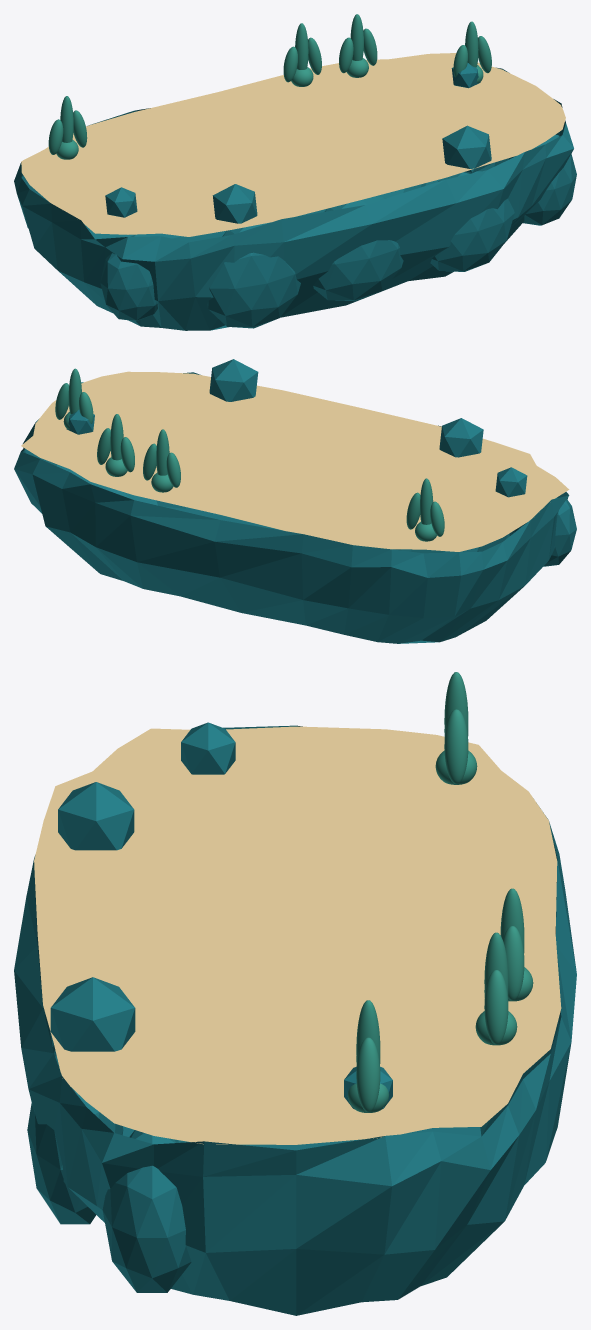
Rendered from island.glb.
The picture shows the model from 3 angles, top to bottom: view 1: azimuth 30°, elevation 25°; view 2: azimuth 150°, elevation 25°; view 3: azimuth 270°, elevation 25°; orthographic projection. The views are drawn at different scales.
Parts seen in each view (by area): view 1: Sandy island top, Faceted rocky island, Cliff boulder.001, Cliff boulder.002, Cliff boulder.003, Cliff boulder, Cliff boulder.004, Faceted stone.002, Faceted stone.001, Faceted stone, Kelp leaf.001, Kelp leaf.004 (+5 smaller); view 2: Sandy island top, Faceted rocky island, Faceted stone.002, Faceted stone.001, Cliff boulder, Faceted stone, Kelp leaf.004, Kelp leaf.007, Kelp leaf.001, Kelp leaf.010, Faceted stone.003, Kelp leaf (+6 smaller); view 3: Sandy island top, Faceted rocky island, Cliff boulder.004, Faceted stone.002, Faceted stone.001, Cliff boulder.003, Faceted stone, Kelp leaf.002, Kelp leaf.008, Kelp leaf.011, Kelp leaf.005, Kelp leaf.001 (+3 smaller).
Boxes of the visible parts, bbox=[...] form: Sandy island top: bbox=[21, 53, 565, 236]; Faceted rocky island: bbox=[14, 67, 573, 330]; Cliff boulder.001: bbox=[207, 222, 300, 328]; Cliff boulder.002: bbox=[313, 197, 403, 301]; Cliff boulder.003: bbox=[430, 171, 514, 271]; Cliff boulder: bbox=[100, 234, 157, 321]; Cliff boulder.004: bbox=[508, 134, 576, 225]; Faceted stone.002: bbox=[442, 125, 491, 173]; Faceted stone.001: bbox=[212, 184, 257, 223]; Faceted stone: bbox=[105, 187, 137, 217]; Kelp leaf.001: bbox=[60, 96, 73, 142]; Kelp leaf.004: bbox=[295, 23, 308, 69]; Sandy island top: bbox=[21, 371, 569, 551]; Faceted rocky island: bbox=[14, 372, 569, 643]; Faceted stone.002: bbox=[209, 359, 258, 401]; Faceted stone.001: bbox=[439, 418, 483, 457]; Cliff boulder: bbox=[509, 497, 576, 566]; Faceted stone: bbox=[495, 467, 527, 497]; Kelp leaf.004: bbox=[156, 429, 169, 475]; Kelp leaf.007: bbox=[110, 414, 123, 460]; Kelp leaf.001: bbox=[420, 478, 433, 524]; Kelp leaf.010: bbox=[68, 368, 81, 413]; Faceted stone.003: bbox=[66, 409, 94, 434]; Kelp leaf: bbox=[430, 501, 444, 536]; Sandy island top: bbox=[34, 726, 561, 1144]; Faceted rocky island: bbox=[14, 725, 576, 1315]; Cliff boulder.004: bbox=[102, 1130, 191, 1292]; Faceted stone.002: bbox=[50, 977, 135, 1051]; Faceted stone.001: bbox=[58, 782, 134, 850]; Cliff boulder.003: bbox=[27, 1045, 123, 1224]; Faceted stone: bbox=[181, 722, 235, 774]; Kelp leaf.002: bbox=[444, 709, 468, 783]; Kelp leaf.008: bbox=[484, 970, 508, 1044]; Kelp leaf.011: bbox=[356, 1037, 380, 1112]; Kelp leaf.005: bbox=[503, 926, 524, 1000]; Kelp leaf.001: bbox=[444, 672, 468, 735].
Size of the model in its own units: 6.25 by 2.21 by 3.52.
